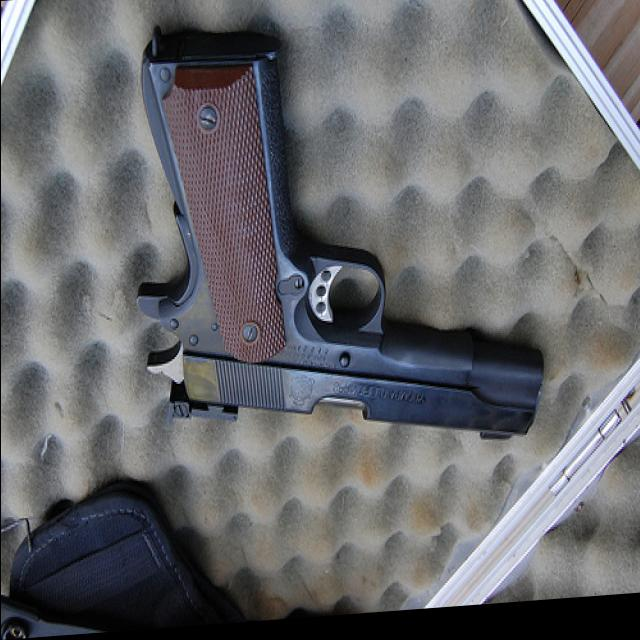handgun: (129, 11, 540, 479)
